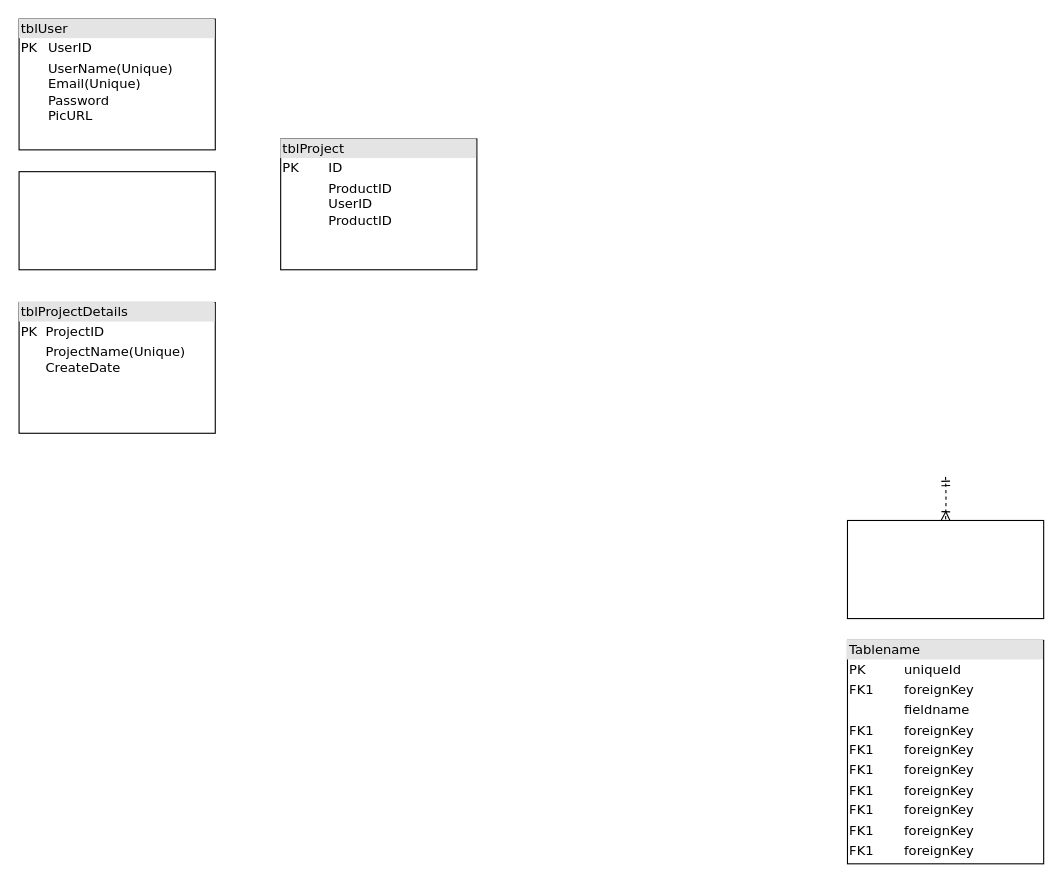
This 1063x883 diagram has some shape labels left out. Each missing label, with the centre of its shape:
"Tablename PK uniqueId FK1 foreignKey fieldname" belongs at pixel 945 569.
"tblManufacture PK ManufactureID ManufatureName(Unique)" belongs at pixel 116 220.
